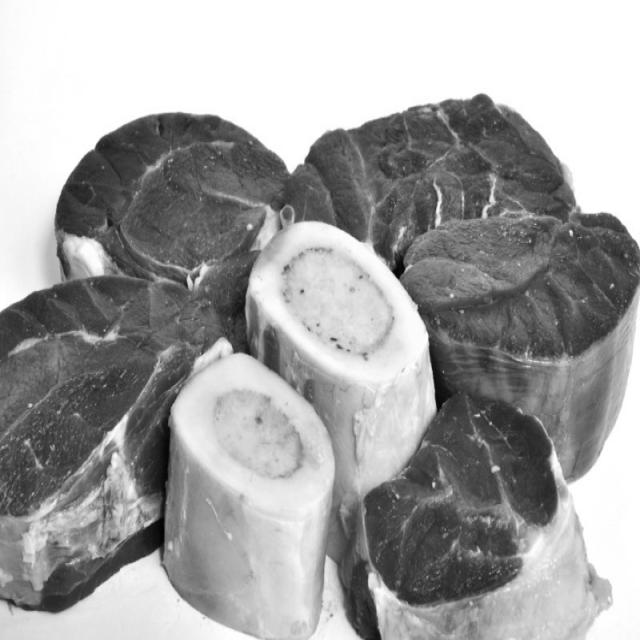ham hock: (0, 102, 639, 639)
